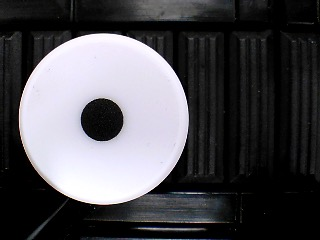BOHO: (18, 33, 189, 205)
